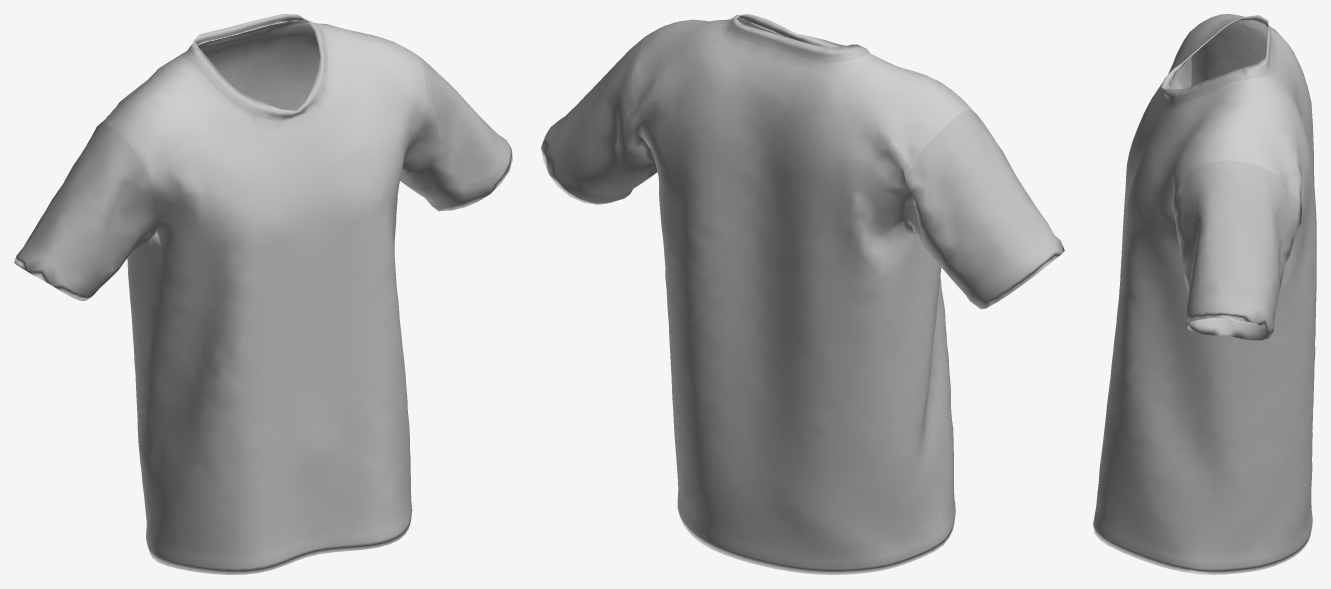
The model's file is 3d-ao-fixed.fbx.
3 renders of one model, left to right at view 1: azimuth 30°, elevation 25°; view 2: azimuth 150°, elevation 25°; view 3: azimuth 270°, elevation 25°, orthographic. The views are drawn at different scales.
Parts seen in each view (by area): view 1: Pattern2D_746013, Pattern2D_1739218, Pattern2D_2264397, Pattern2D_1569094, Pattern2D_6115; view 2: Pattern2D_2264397, Pattern2D_1739218, Pattern2D_1569094, Pattern2D_746013, Pattern2D_6115; view 3: Pattern2D_746013, Pattern2D_2264397, Pattern2D_1569094, Pattern2D_1739218, Pattern2D_6115.
Part boxes in pixels (x1,y1,x2,y2): Pattern2D_746013: [108, 24, 427, 574]; Pattern2D_1739218: [14, 123, 157, 300]; Pattern2D_2264397: [97, 22, 342, 561]; Pattern2D_1569094: [400, 53, 512, 211]; Pattern2D_6115: [186, 14, 328, 121]; Pattern2D_2264397: [630, 21, 949, 574]; Pattern2D_1739218: [905, 109, 1064, 309]; Pattern2D_1569094: [541, 34, 657, 204]; Pattern2D_746013: [642, 19, 971, 544]; Pattern2D_6115: [726, 14, 870, 63]; Pattern2D_746013: [1093, 14, 1247, 573]; Pattern2D_2264397: [1197, 16, 1316, 574]; Pattern2D_1569094: [1173, 160, 1301, 340]; Pattern2D_1739218: [1177, 22, 1267, 88]; Pattern2D_6115: [1160, 15, 1271, 103].
Size of the model in its own units: 73.14 by 70.93 by 29.59.
